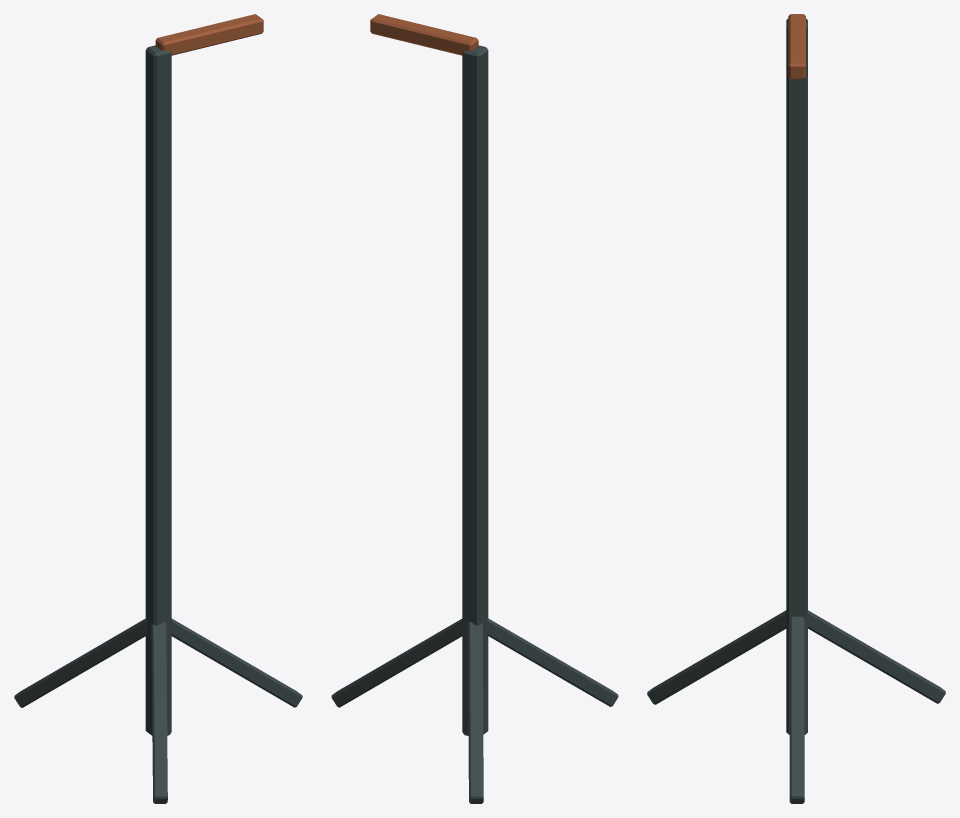
Rendered from Lamp_Stand.glb.
The picture shows the model from 3 angles, left to right: view 1: azimuth 30°, elevation 25°; view 2: azimuth 150°, elevation 25°; view 3: azimuth 270°, elevation 25°; orthographic projection. The views are drawn at different scales.
Visible parts, largest first — view 1: Lamp_Stand; view 2: Lamp_Stand; view 3: Lamp_Stand.
Part boxes in pixels (box(x1,y1,x2,y2)): Lamp_Stand: box(14, 14, 302, 803); Lamp_Stand: box(331, 14, 618, 803); Lamp_Stand: box(647, 14, 945, 803).
Size of the model in its own units: 0.5972 by 1.83 by 0.686.
